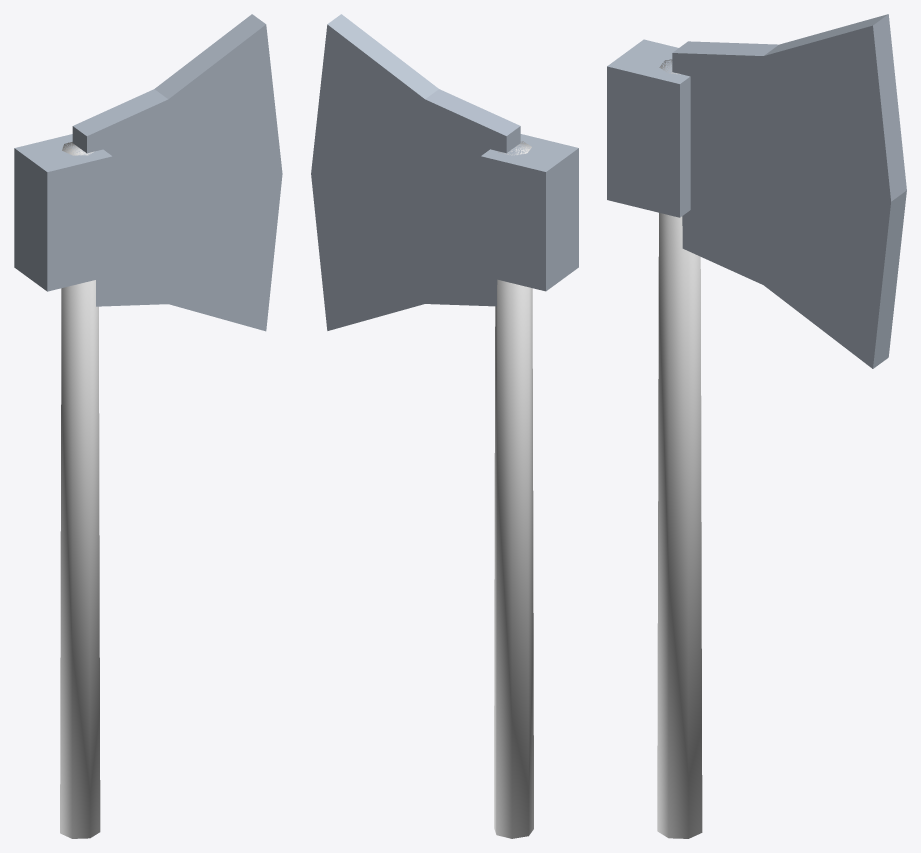
Rendered from stellite_axe.glb.
The picture shows the model from 3 angles, left to right: view 1: azimuth 30°, elevation 25°; view 2: azimuth 150°, elevation 25°; view 3: azimuth 330°, elevation 25°; orthographic projection. The views are drawn at different scales.
Parts seen in each view (by area): view 1: stellite_axe_v0; view 2: stellite_axe_v0; view 3: stellite_axe_v0.
Part boxes in pixels (x1,y1,x2,y2): stellite_axe_v0: [14, 14, 282, 838]; stellite_axe_v0: [311, 14, 578, 838]; stellite_axe_v0: [607, 14, 906, 838].
Size of the model in its own units: 0.3 by 0.9 by 0.07.
